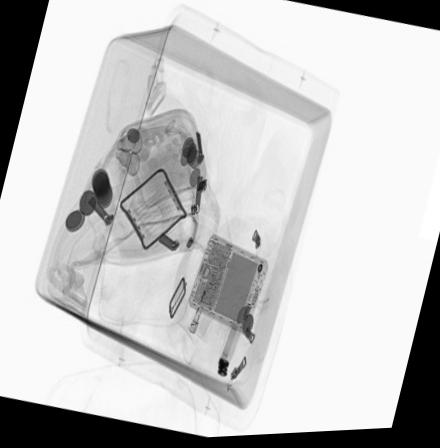Lighter: (186, 285, 211, 339)
